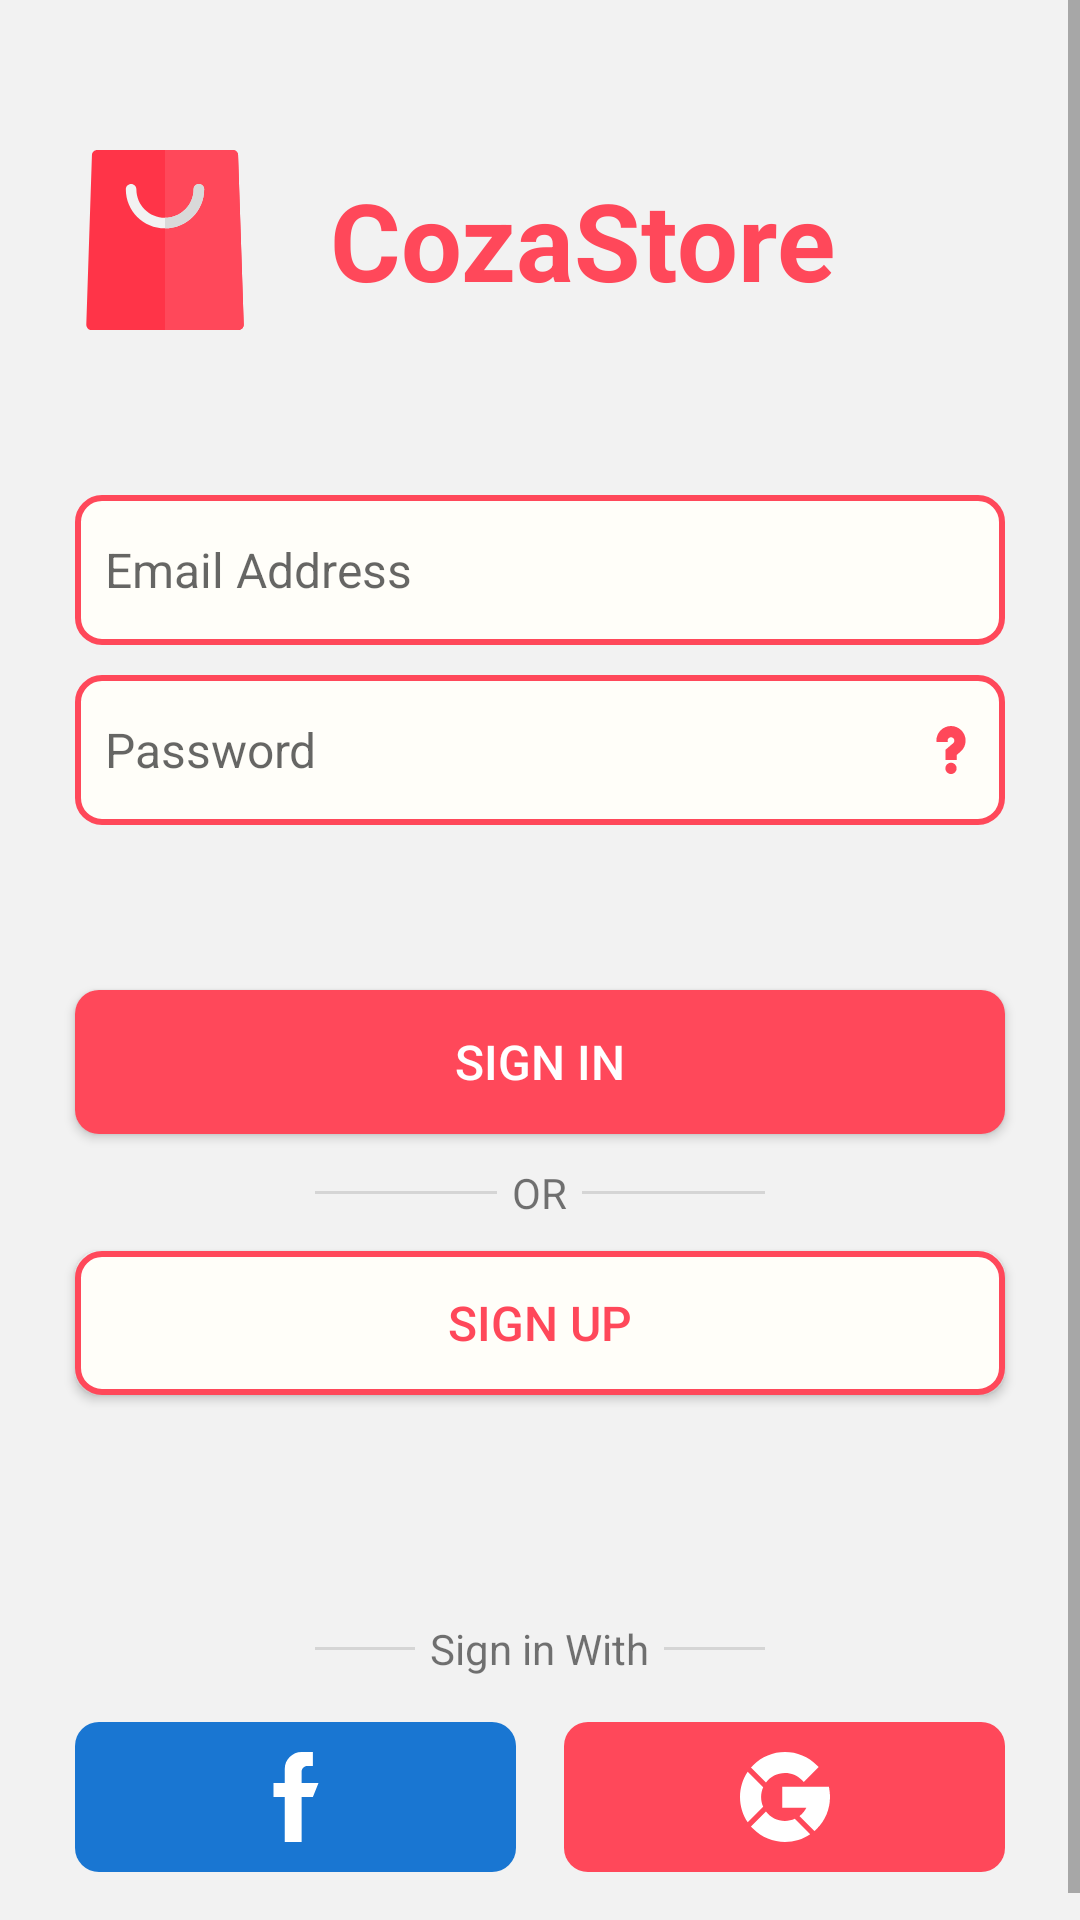

Where icons sit on this 1080 × 1920 app screen, as (left=x1, top=y1, right=x2, bottom=y2):
questions mark field: (left=936, top=726, right=966, bottom=774)
